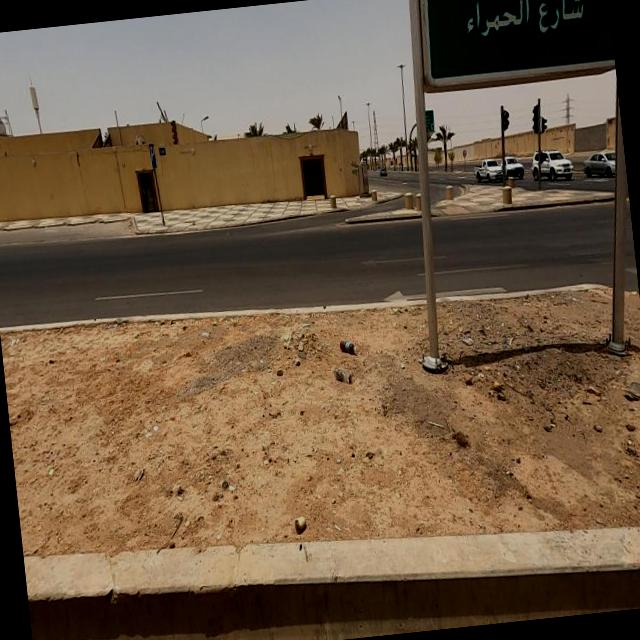debris: (432, 328, 536, 438), (256, 461, 341, 583), (311, 306, 382, 409)
